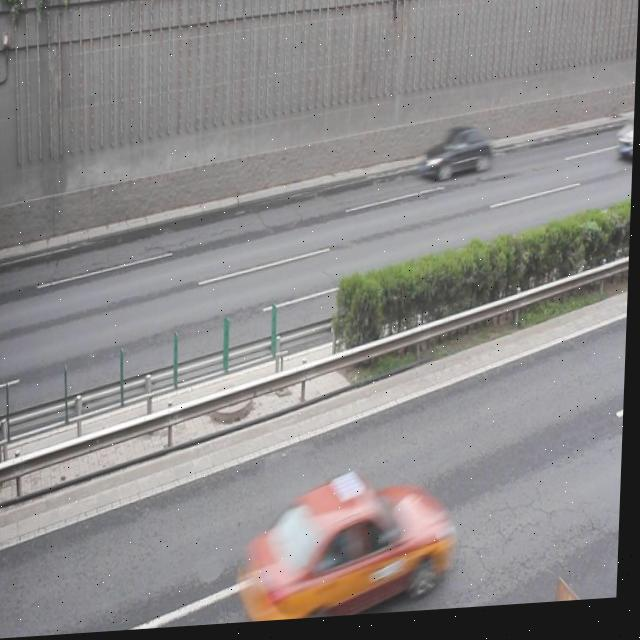car: (240, 470, 454, 626), (419, 128, 495, 188)
